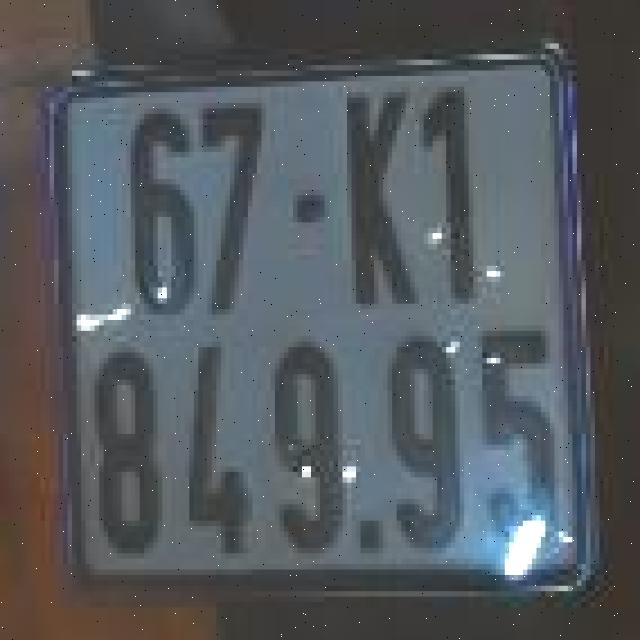1: (424, 82, 491, 310)
4: (180, 334, 262, 566)
5: (476, 331, 566, 548)
6: (124, 103, 196, 315)
7: (200, 103, 264, 325)
8: (81, 344, 176, 572)
9: (381, 331, 466, 558), (268, 339, 349, 561)
K: (336, 86, 421, 314)
